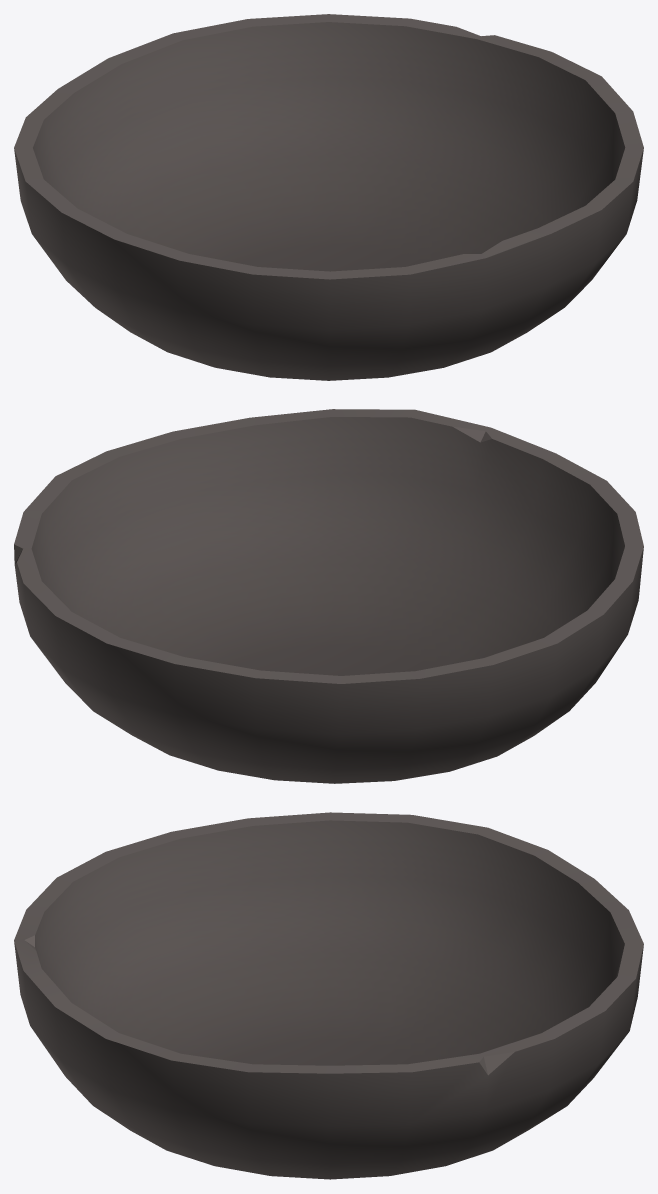
Rendered from Bowl_Large.fbx.
The picture shows the model from 3 angles, top to bottom: view 1: azimuth 30°, elevation 25°; view 2: azimuth 150°, elevation 25°; view 3: azimuth 270°, elevation 25°; orthographic projection.
Visible parts, largest first — view 1: Bowl_Large; view 2: Bowl_Large; view 3: Bowl_Large.
Boxes of the visible parts, bbox=[...] form: Bowl_Large: bbox=[14, 14, 643, 380]; Bowl_Large: bbox=[14, 409, 643, 783]; Bowl_Large: bbox=[14, 812, 643, 1179].
Bounding box in the file's own units: 35.1 × 11.13 × 35.18.
